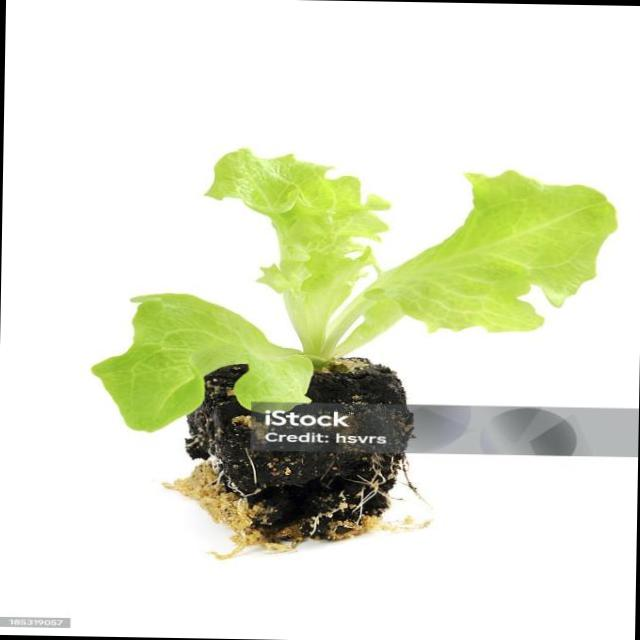Lettuce-Not-Ready-to-Harvest: (93, 149, 615, 429)
